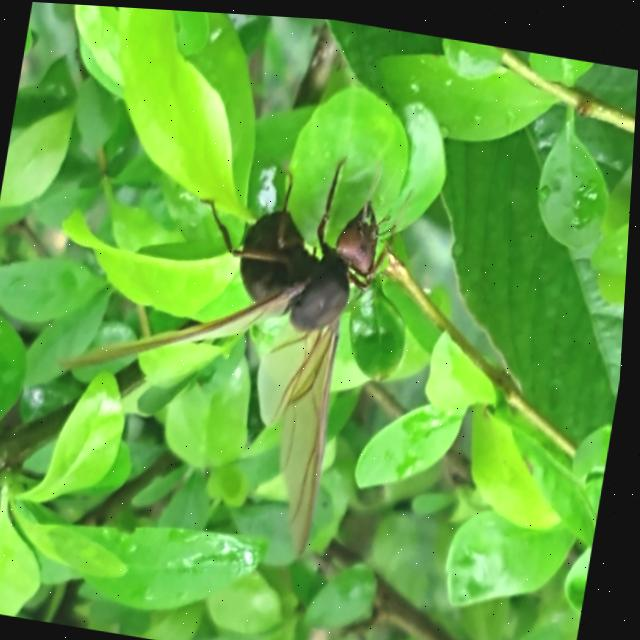Alive-Female-Alate: (37, 111, 424, 563)
